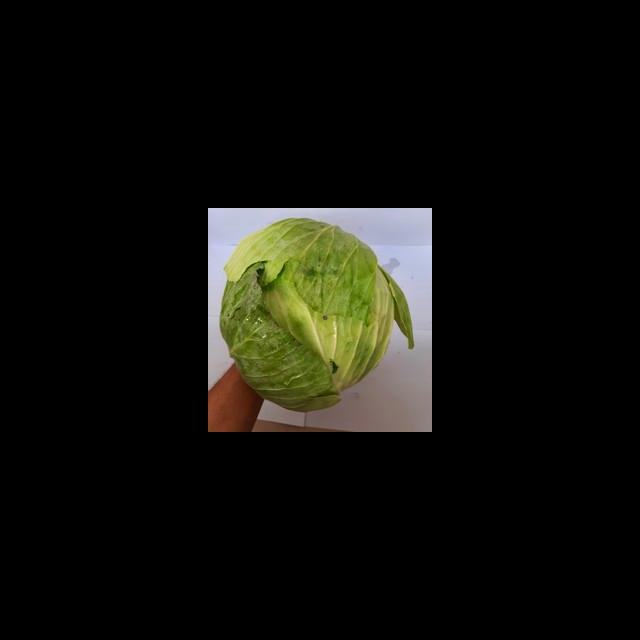cabbage: (220, 218, 415, 412)
